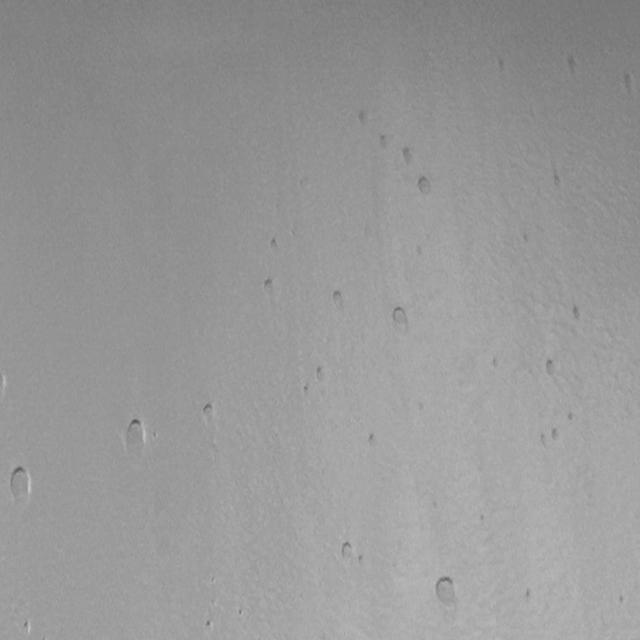pin holes: (122, 416, 152, 458), (6, 462, 32, 505), (433, 574, 458, 609), (617, 70, 638, 102), (388, 305, 410, 334), (414, 176, 436, 201), (398, 146, 419, 171), (563, 53, 583, 79), (338, 539, 358, 563), (542, 358, 562, 382), (492, 54, 511, 77), (568, 302, 586, 326), (329, 289, 346, 314), (312, 362, 328, 387), (356, 108, 374, 130), (200, 401, 217, 424), (550, 170, 566, 192), (261, 275, 278, 295), (548, 426, 564, 447), (0, 370, 12, 397), (267, 235, 282, 254), (366, 431, 381, 449), (522, 586, 535, 605), (616, 591, 630, 607), (202, 618, 215, 635), (20, 619, 33, 636), (540, 432, 549, 451), (302, 383, 310, 403), (522, 231, 532, 247), (566, 409, 576, 424), (236, 608, 247, 621), (380, 134, 387, 152), (210, 573, 217, 587), (492, 358, 499, 370)
